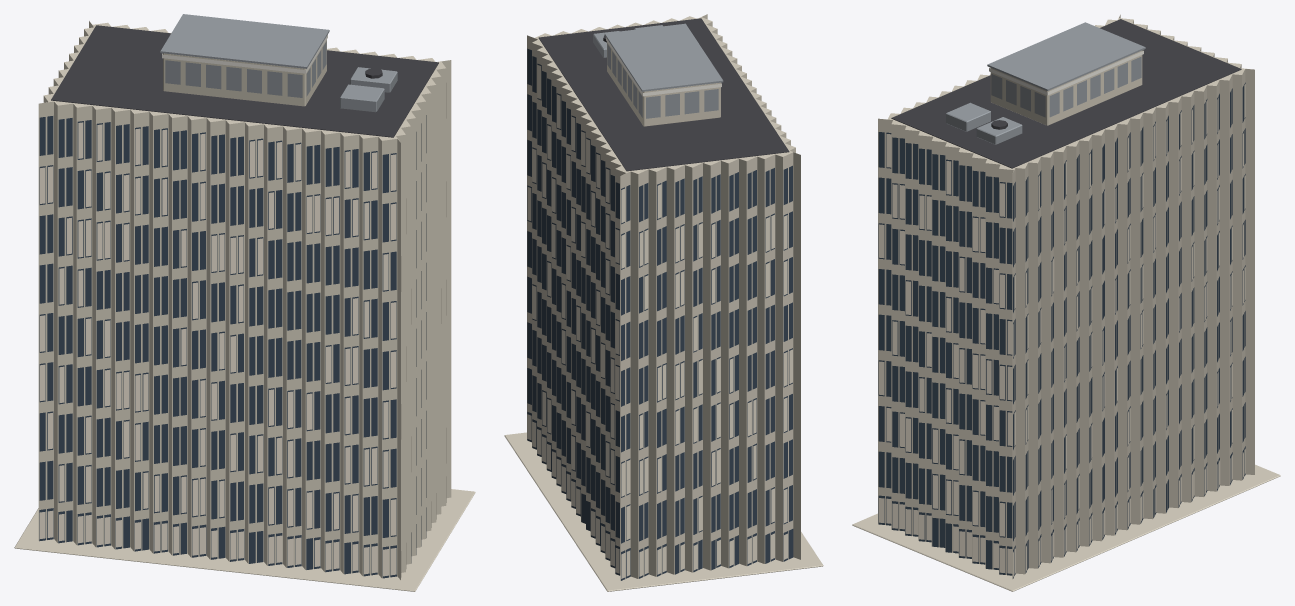
The model's file is 201-spear-street.glb.
3 renders of one model, left to right at view 1: azimuth 30°, elevation 25°; view 2: azimuth 150°, elevation 25°; view 3: azimuth 270°, elevation 25°, orthographic. The views are drawn at different scales.
Parts seen in each view (by area): view 1: 201-spear-street_body, 201-spear-street_night_glow; view 2: 201-spear-street_body, 201-spear-street_night_glow; view 3: 201-spear-street_body, 201-spear-street_night_glow.
Boxes of the visible parts, box(x1,y1,x2,y2) form: 201-spear-street_body: box(14, 14, 475, 591); 201-spear-street_night_glow: box(39, 35, 446, 577); 201-spear-street_body: box(504, 14, 823, 591); 201-spear-street_night_glow: box(527, 37, 792, 578); 201-spear-street_body: box(852, 14, 1280, 591); 201-spear-street_night_glow: box(879, 50, 1245, 577).
Bounding box in the file's own units: 69.48 × 79.2 × 69.1.
